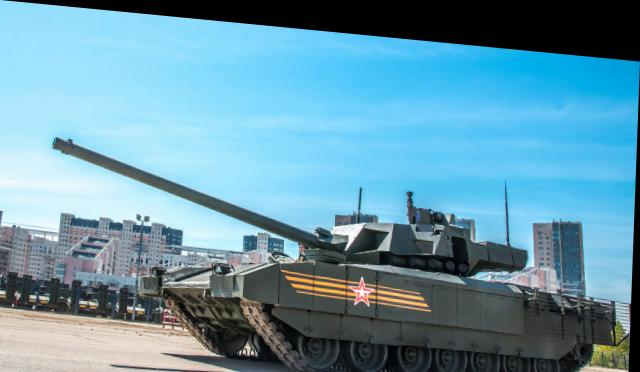tank: (151, 203, 593, 370)
